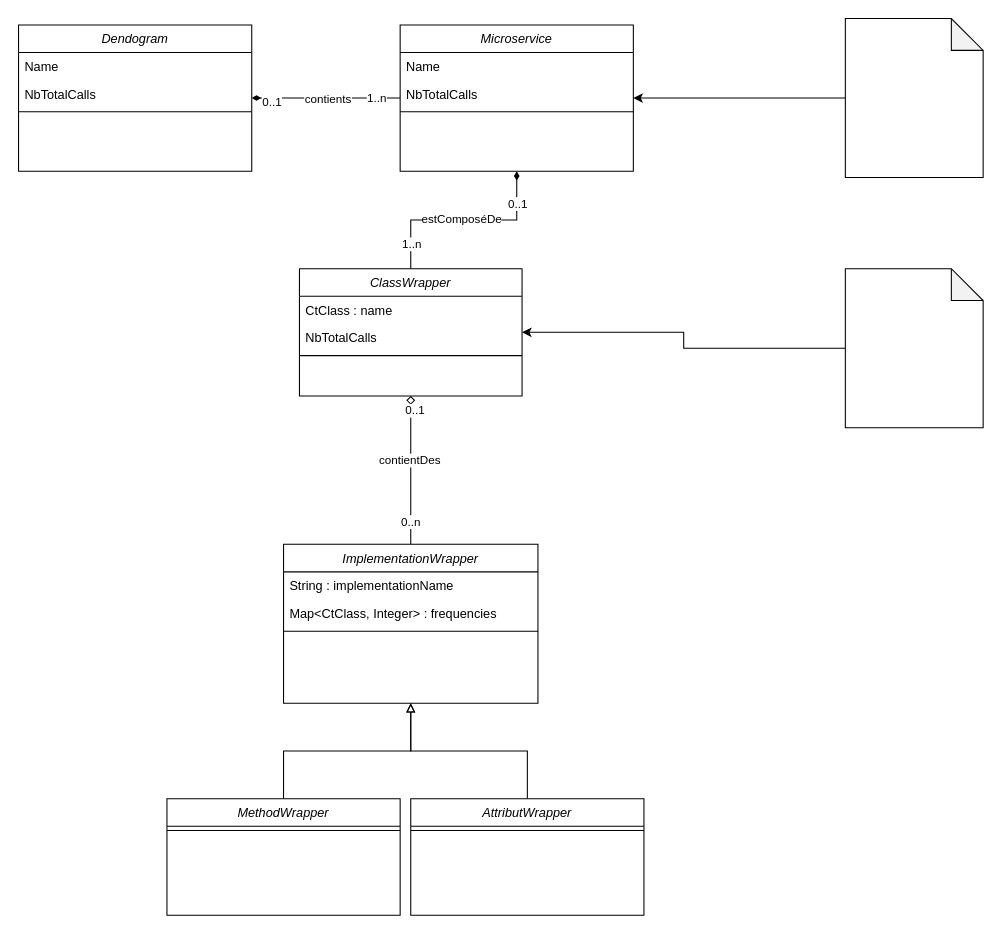
Image size: 1002x934. Some labels were removed from this diagram. The shapes that lost their labels are listed below. From the top down, each one's centre as x and y in pixels, then its label:
At pixel 913 97: "aussi vu comme un cluster".
At pixel 913 348: "aussi vu comme une classe".
